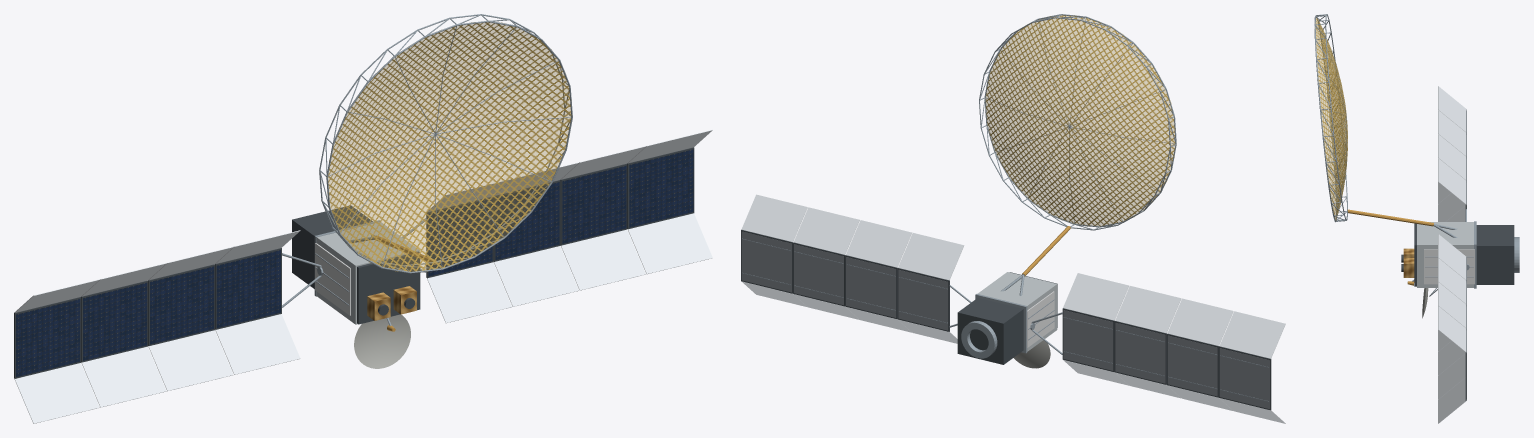
The model's file is boeing-thuraya-concentrators.glb.
3 renders of one model, left to right at view 1: azimuth 30°, elevation 25°; view 2: azimuth 150°, elevation 25°; view 3: azimuth 270°, elevation 25°, orthographic. The views are drawn at different scales.
Parts seen in each view (by area): view 1: Deployable mesh reflector, Solar concentrator mirror (×16), Solar cell panel (×8), Payload module, Communications reflector, Earth-facing deck, Service module, Radiator face; view 2: Deployable mesh reflector, Solar concentrator mirror (×16), Rear array substrate (×8), Service module, Payload module, Radiator face, Launch adapter ring, Communications reflector; view 3: Solar concentrator mirror (×12), Deployable mesh reflector, Service module, Payload module, Radiator face, Reflector deployment boom, Communications feed assembly, Launch adapter ring.
Part boxes in pixels (bbox=[...]): Deployable mesh reflector: bbox=[327, 22, 571, 271]; Solar concentrator mirror (×16): bbox=[14, 129, 712, 423]; Solar cell panel (×8): bbox=[16, 149, 693, 377]; Payload module: bbox=[316, 222, 419, 324]; Communications reflector: bbox=[354, 314, 410, 368]; Earth-facing deck: bbox=[357, 252, 420, 324]; Service module: bbox=[292, 205, 372, 288]; Radiator face: bbox=[315, 243, 350, 315]; Deployable mesh reflector: bbox=[985, 15, 1175, 226]; Solar concentrator mirror (×16): bbox=[741, 194, 1285, 423]; Rear array substrate (×8): bbox=[741, 231, 1269, 409]; Service module: bbox=[957, 298, 1023, 364]; Payload module: bbox=[977, 272, 1057, 351]; Radiator face: bbox=[1027, 291, 1054, 347]; Launch adapter ring: bbox=[961, 321, 997, 358]; Communications reflector: bbox=[1014, 340, 1050, 368]; Solar concentrator mirror (×12): bbox=[1438, 86, 1466, 423]; Deployable mesh reflector: bbox=[1315, 18, 1347, 220]; Service module: bbox=[1476, 225, 1514, 284]; Payload module: bbox=[1417, 222, 1473, 287]; Radiator face: bbox=[1424, 249, 1474, 284]; Reflector deployment boom: bbox=[1347, 209, 1433, 226]; Communications feed assembly: bbox=[1403, 258, 1414, 277]; Launch adapter ring: bbox=[1514, 237, 1519, 272].
Size of the model in its own units: 33.97 by 19.03 by 12.08.
11 materials, 3 textured.
